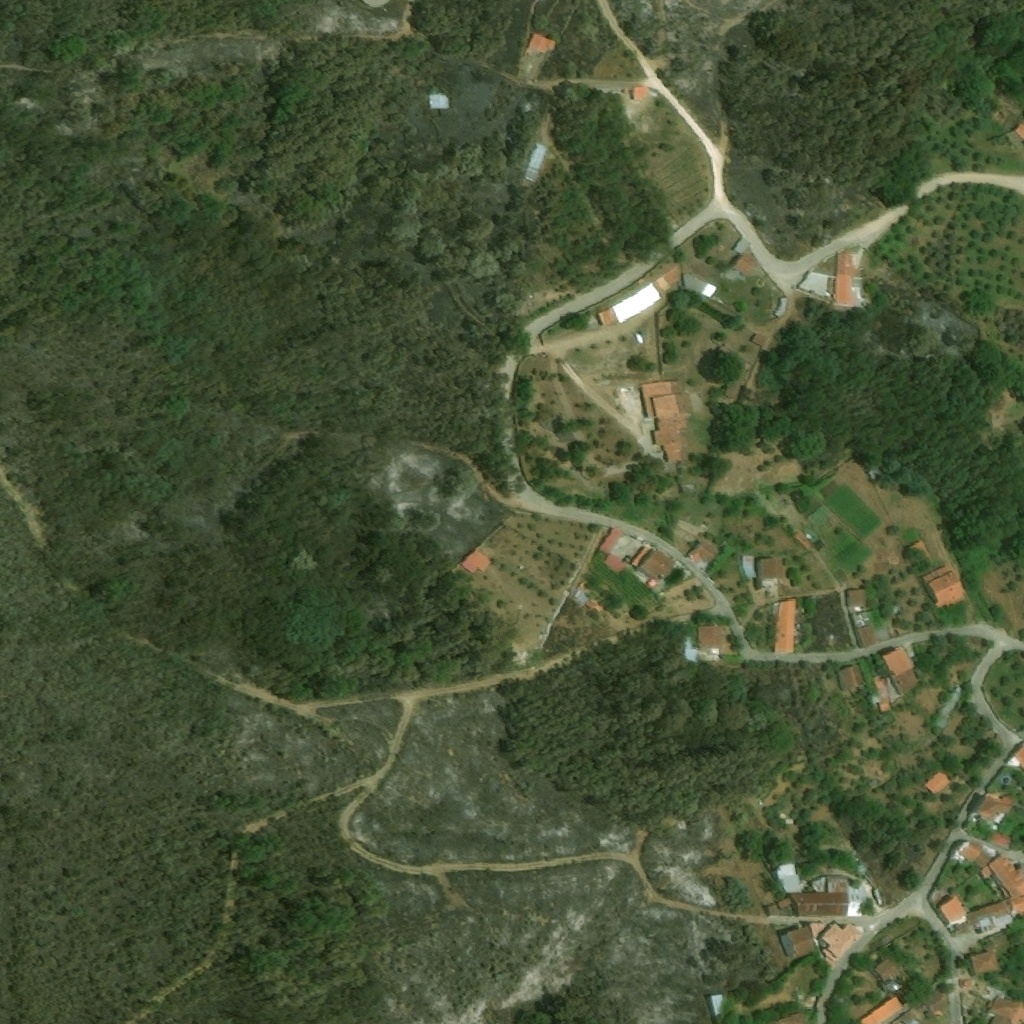0 no-damage: (651, 380, 693, 468), (872, 645, 920, 715), (789, 876, 869, 917), (979, 851, 1023, 915), (921, 564, 970, 609), (612, 283, 663, 326), (957, 900, 1014, 937), (679, 620, 725, 663), (820, 922, 863, 964), (631, 544, 677, 583), (836, 251, 870, 303), (850, 611, 890, 650), (932, 684, 964, 732), (875, 956, 910, 995), (977, 791, 1013, 826), (858, 996, 904, 1023), (523, 143, 551, 185), (775, 599, 796, 653), (733, 238, 760, 277), (787, 925, 816, 961), (985, 996, 1023, 1023), (653, 264, 683, 296), (460, 547, 493, 575), (684, 273, 718, 299), (938, 895, 968, 924), (688, 539, 721, 565), (908, 541, 935, 572), (837, 665, 865, 693), (758, 558, 785, 586), (970, 950, 1000, 975), (923, 772, 950, 797), (599, 528, 623, 556), (603, 553, 627, 575), (987, 830, 1012, 850), (960, 842, 983, 863), (773, 1010, 809, 1023), (598, 308, 618, 329), (427, 92, 451, 109), (779, 874, 799, 894), (865, 463, 885, 483), (779, 931, 794, 957), (847, 589, 868, 607), (710, 994, 727, 1016), (972, 851, 992, 869), (773, 297, 789, 319), (743, 555, 757, 578), (752, 332, 769, 348), (361, 0, 393, 7), (1012, 747, 1023, 767), (778, 898, 793, 910), (1013, 122, 1023, 139), (767, 906, 777, 916)
1 minor-damage: (528, 32, 557, 56)
